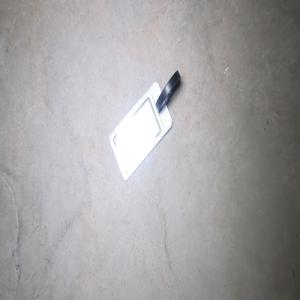LuggageTag: (108, 69, 181, 182)
